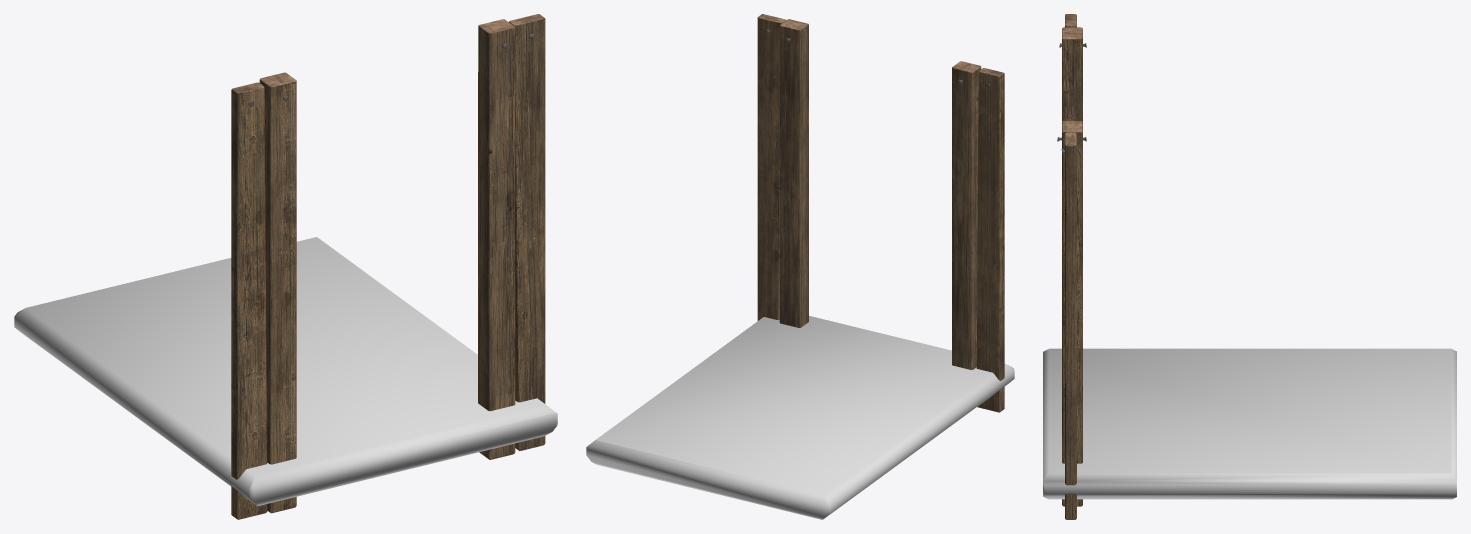
File: SM_DoorWay_P02_.fbx
The picture shows the model from 3 angles, left to right: view 1: azimuth 30°, elevation 25°; view 2: azimuth 150°, elevation 25°; view 3: azimuth 270°, elevation 25°; orthographic projection. The views are drawn at different scales.
Parts seen in each view (by area): view 1: SM_DoorWay_P02__ConvexHulls, SM_DoorWay_P02_; view 2: SM_DoorWay_P02__ConvexHulls, SM_DoorWay_P02_; view 3: SM_DoorWay_P02__ConvexHulls, SM_DoorWay_P02_.
Boxes of the visible parts, left/top/right/bottom form: SM_DoorWay_P02__ConvexHulls: left=14, top=237, right=557, bottom=505; SM_DoorWay_P02_: left=231, top=14, right=545, bottom=519; SM_DoorWay_P02__ConvexHulls: left=586, top=316, right=1014, bottom=519; SM_DoorWay_P02_: left=757, top=14, right=1004, bottom=412; SM_DoorWay_P02__ConvexHulls: left=1043, top=348, right=1456, bottom=499; SM_DoorWay_P02_: left=1057, top=14, right=1086, bottom=519.
Size of the model in its own units: 2.18 by 2.88 by 2.88.
